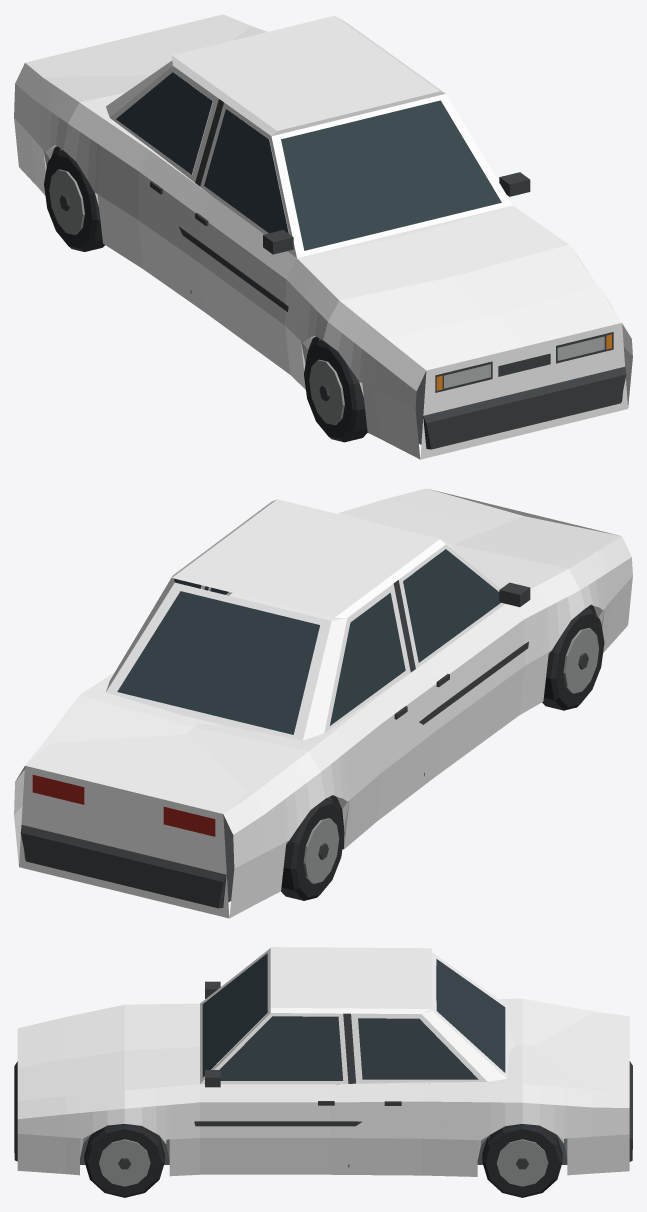
File: varenna_falco.glb
3 views of the same model, one above another, from view 1: azimuth 30°, elevation 25°; view 2: azimuth 150°, elevation 25°; view 3: azimuth 270°, elevation 25° (orthographic). The views are drawn at different scales.
Visible parts, largest first — view 1: varenna_falco; view 2: varenna_falco; view 3: varenna_falco.
Boxes of the visible parts, x1,y1,x2,y2 form: varenna_falco: (14,14,632,459); varenna_falco: (14,488,632,918); varenna_falco: (14,947,632,1197).
Size of the model in its own units: 1.78 by 1.48 by 4.76.
Materials: 8 (1 with a texture image).
